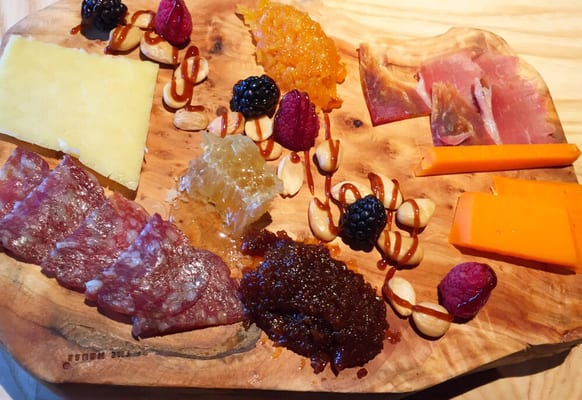pizza: (449, 172, 582, 275), (412, 143, 580, 174)
sushi: (0, 37, 160, 197), (245, 4, 347, 112)
